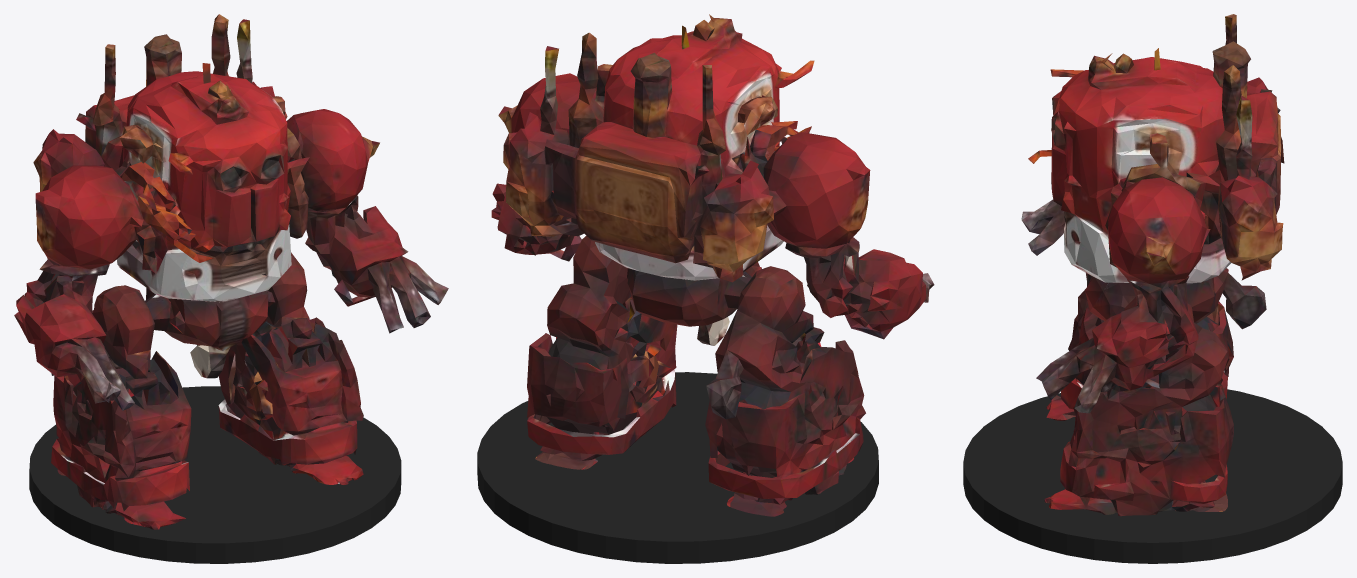
Rendered from wm-razor.glb.
The picture shows the model from 3 angles, left to right: view 1: azimuth 30°, elevation 25°; view 2: azimuth 150°, elevation 25°; view 3: azimuth 270°, elevation 25°; orthographic projection. The views are drawn at different scales.
Parts seen in each view (by area): view 1: figure, base; view 2: figure, base; view 3: figure, base.
Boxes of the visible parts, bbox=[...] form: figure: bbox=[14, 14, 448, 529]; base: bbox=[29, 386, 401, 563]; figure: bbox=[491, 14, 934, 516]; base: bbox=[477, 372, 878, 563]; figure: bbox=[1021, 14, 1284, 516]; base: bbox=[963, 389, 1342, 563].
Bounding box in the file's own units: 2.42 × 2.52 × 1.97.
Materials: 2 (1 with a texture image).
